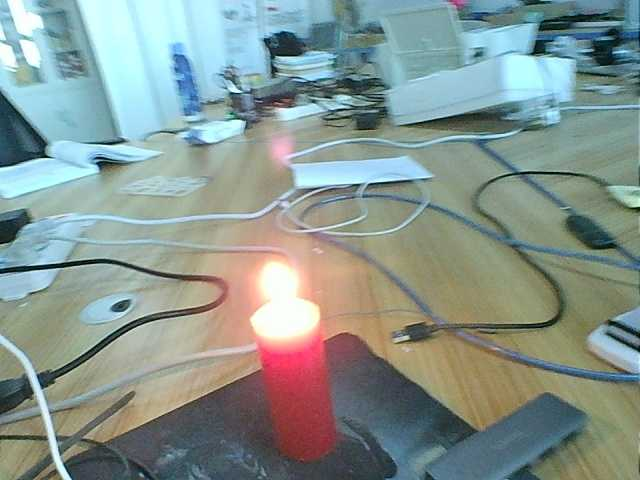candle: (246, 337, 342, 454)
fire: (252, 263, 314, 329)
